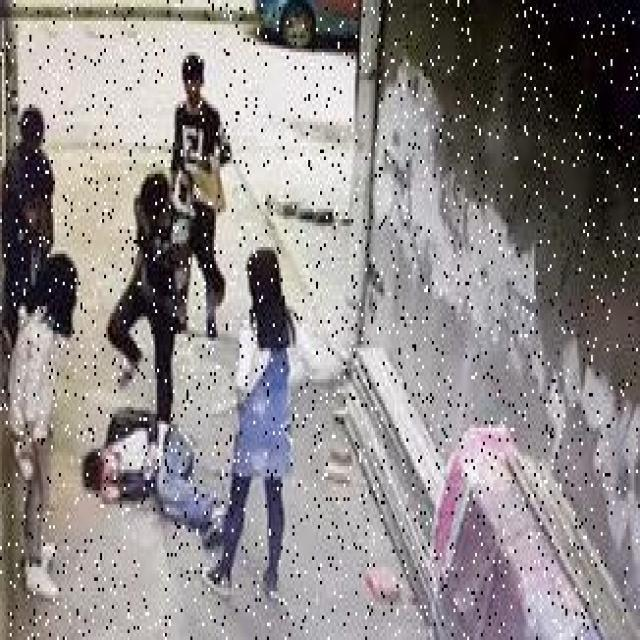fall: (82, 400, 224, 536)
